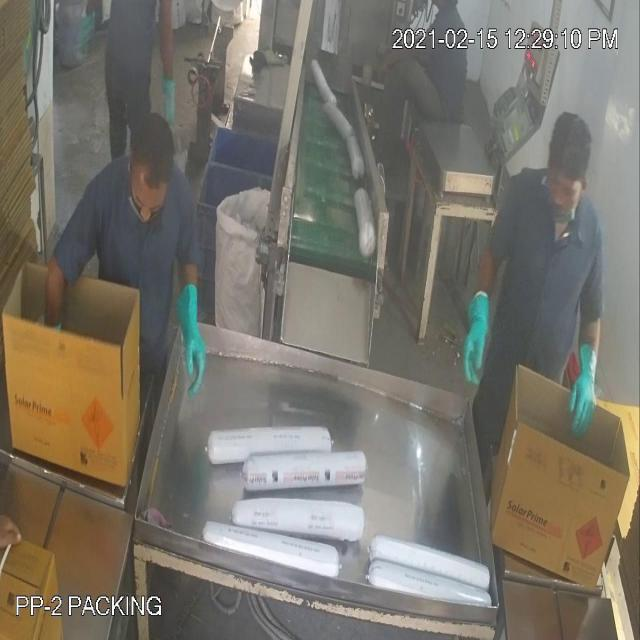Gloves: (40, 34, 591, 386)
